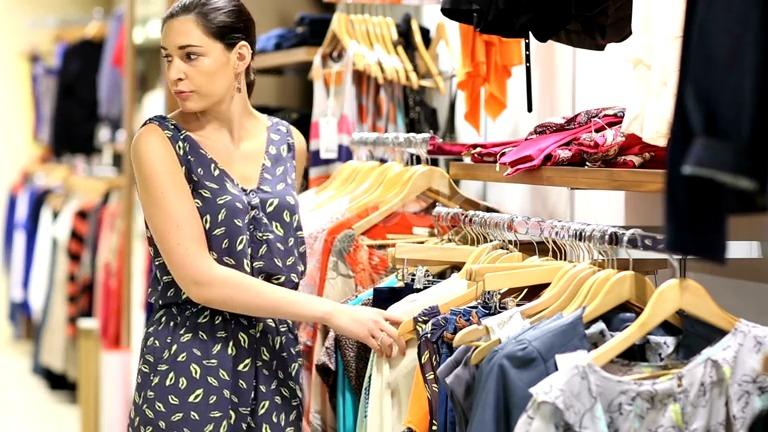Non shoplifting: (96, 0, 430, 432)
